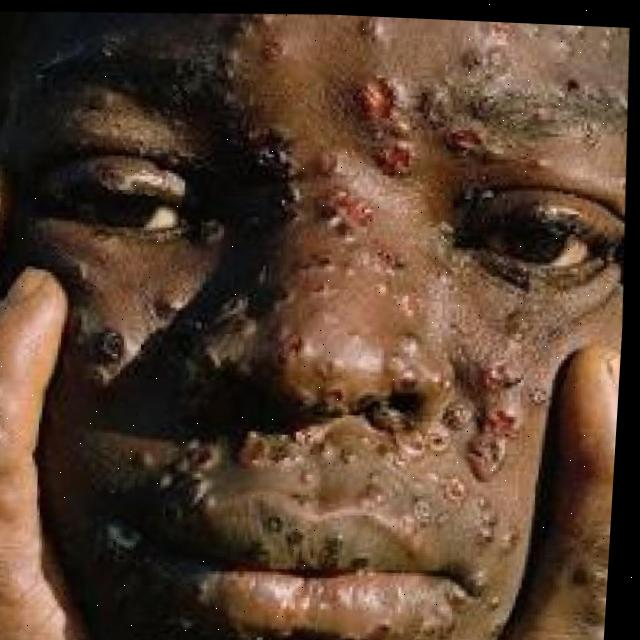Eczema: (0, 1, 640, 640)
